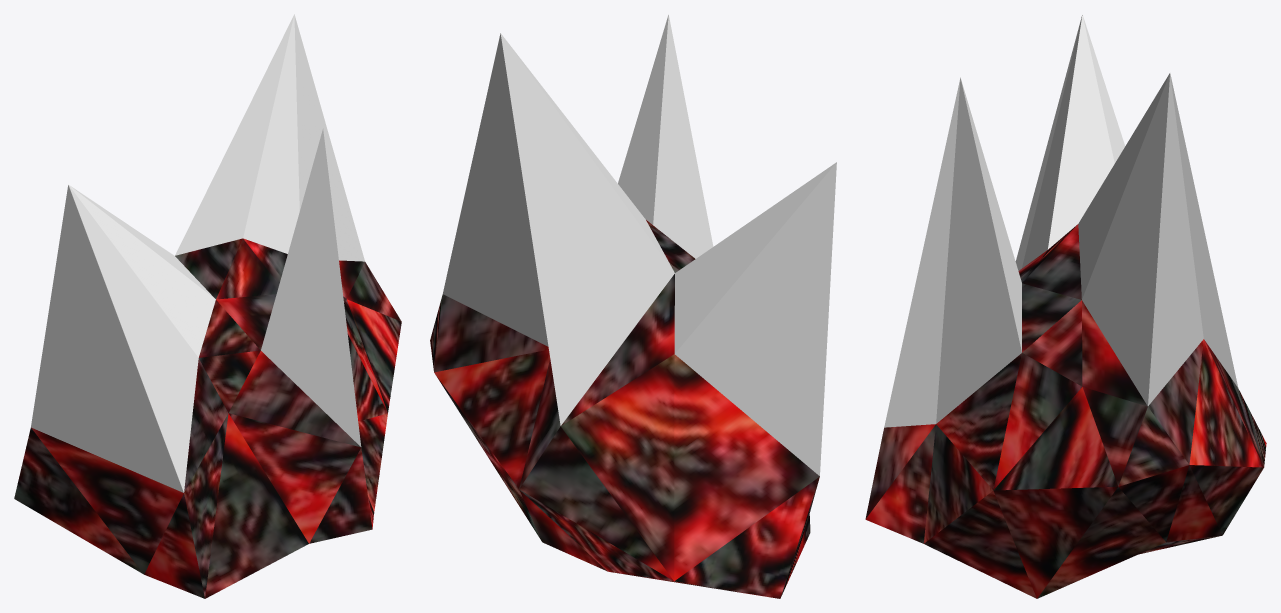
Rendered from infierno roca con puntas.fbx.
3 renders of one model, left to right at view 1: azimuth 30°, elevation 25°; view 2: azimuth 150°, elevation 25°; view 3: azimuth 270°, elevation 25°, orthographic. The views are drawn at different scales.
Visible parts, largest first — view 1: Esfera geodésica; view 2: Esfera geodésica; view 3: Esfera geodésica.
Part boxes in pixels (left/top/right/bottom): Esfera geodésica: left=14, top=14, right=401, bottom=598; Esfera geodésica: left=430, top=15, right=836, bottom=598; Esfera geodésica: left=865, top=14, right=1266, bottom=598.
Bounding box in the file's own units: 362 × 452 × 298.
